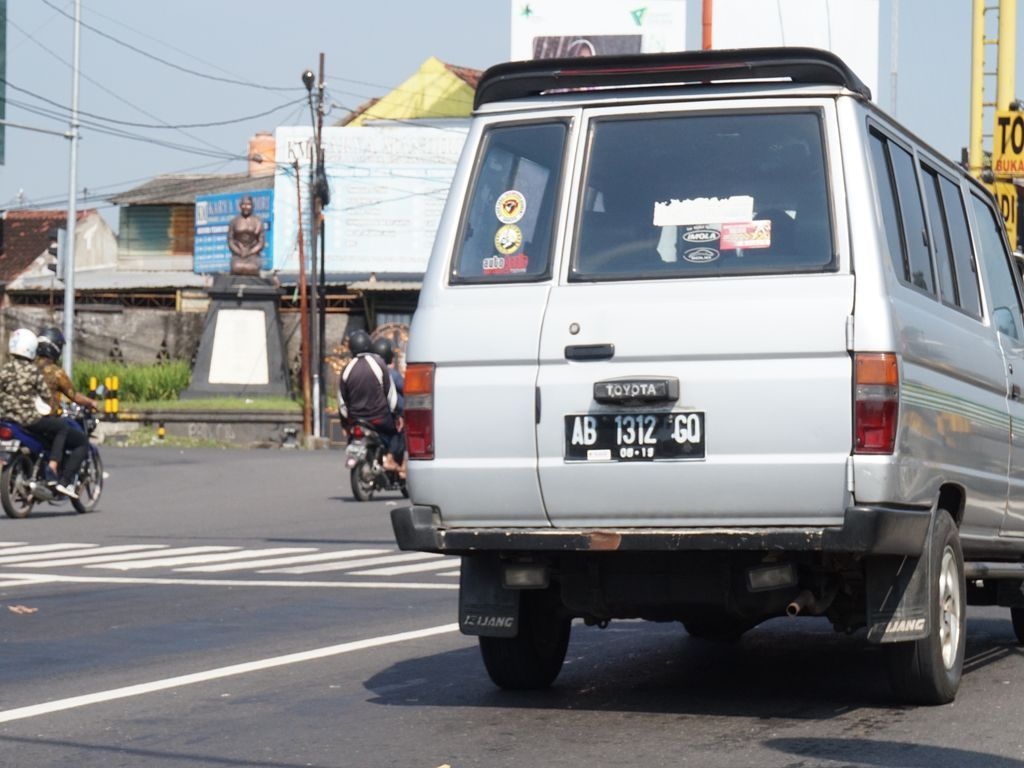plate: (569, 413, 702, 456)
